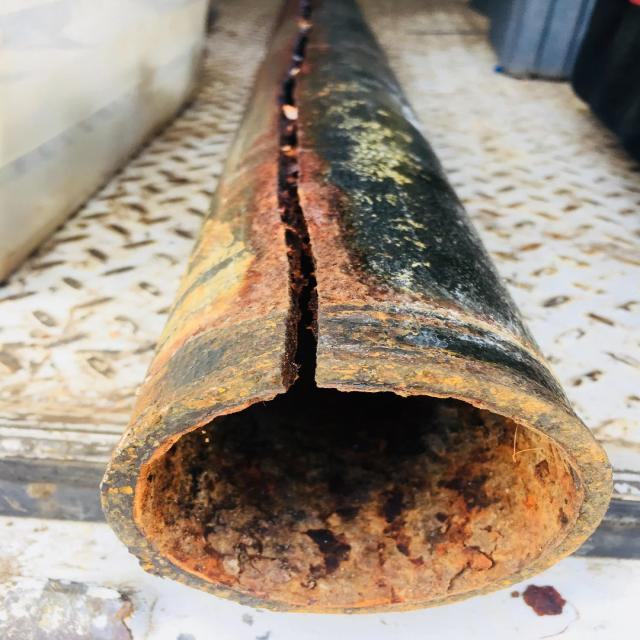crack: (279, 33, 320, 390)
